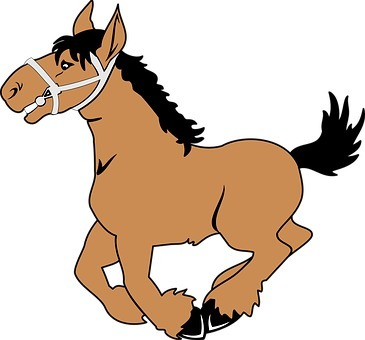horse: (3, 7, 365, 335)
